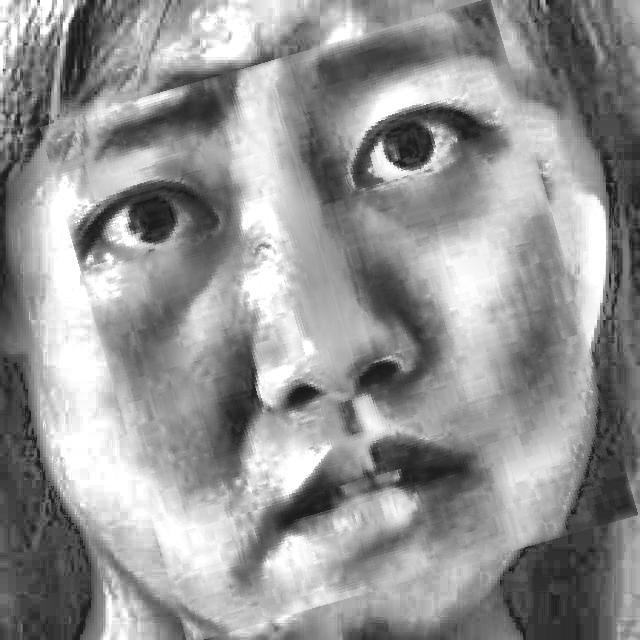fear: (72, 25, 606, 617)
